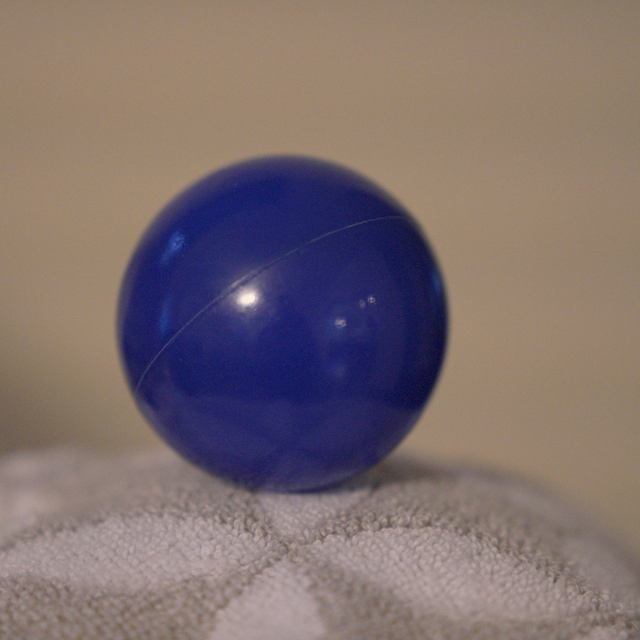Ball: (117, 154, 452, 481)
